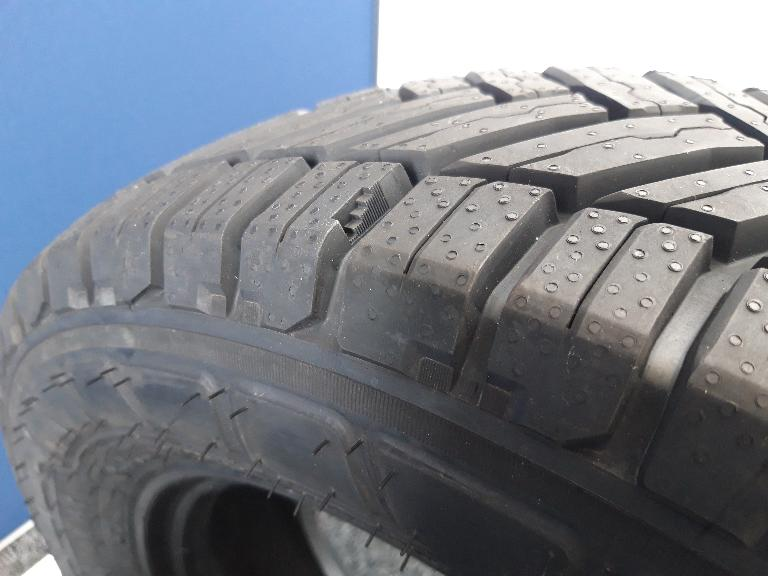temoin:100: (328, 180, 392, 248)
